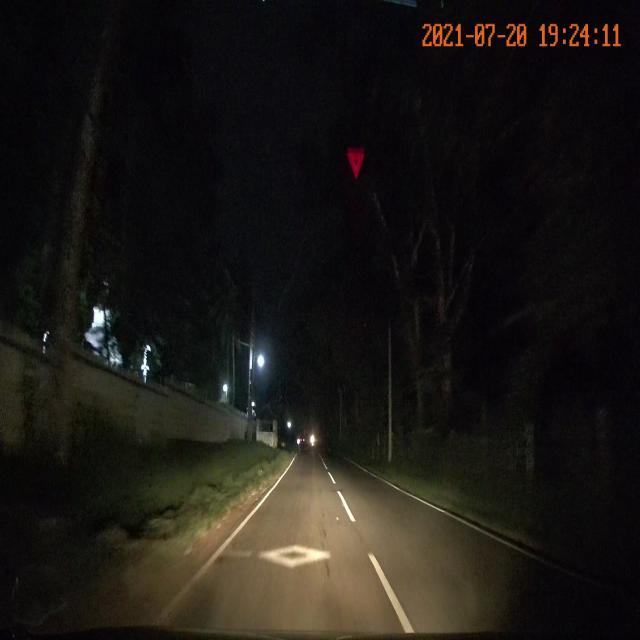diamond: (200, 543, 383, 570)
